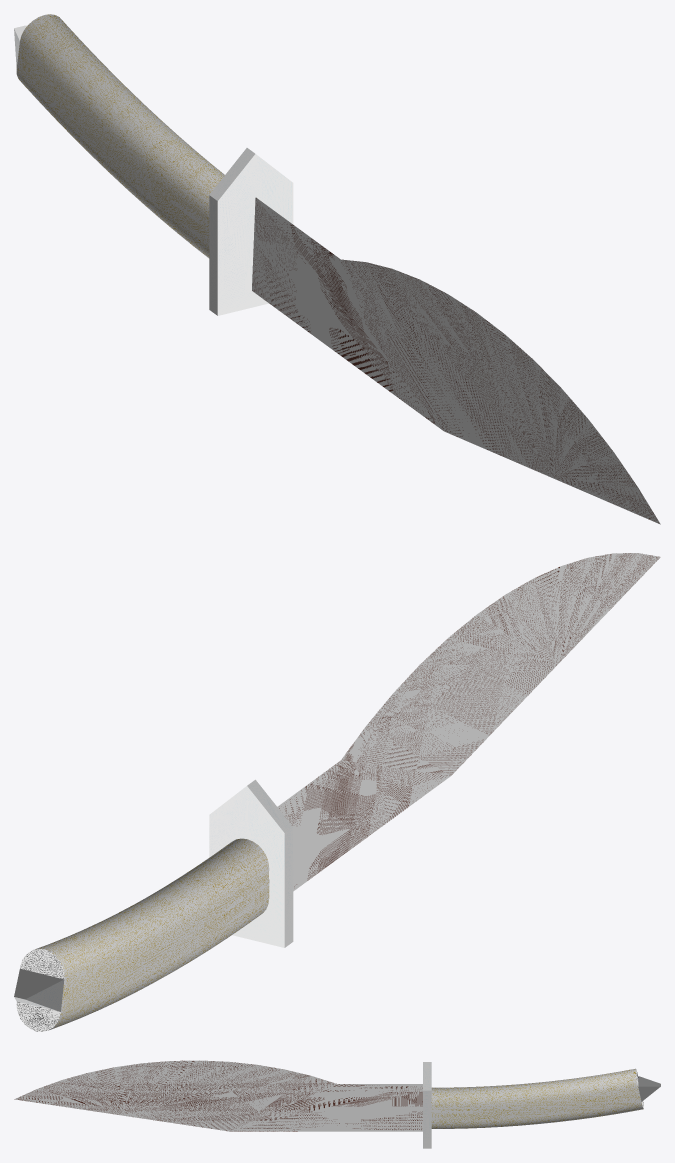
Rendered from model_align.obj.
The picture shows the model from 3 angles, top to bottom: view 1: azimuth 30°, elevation 25°; view 2: azimuth 150°, elevation 25°; view 3: azimuth 270°, elevation 25°; orthographic projection. The views are drawn at different scales.
Parts seen in each view (by area): view 1: mesh1_mesh1-geometry; view 2: mesh1_mesh1-geometry; view 3: mesh1_mesh1-geometry.
Part boxes in pixels (x1,y1,x2,y2): mesh1_mesh1-geometry: [14, 14, 660, 524]; mesh1_mesh1-geometry: [14, 553, 660, 1031]; mesh1_mesh1-geometry: [14, 1060, 660, 1148].
Bounding box in the file's own units: 0.0139 × 0.0275 × 0.2051.
